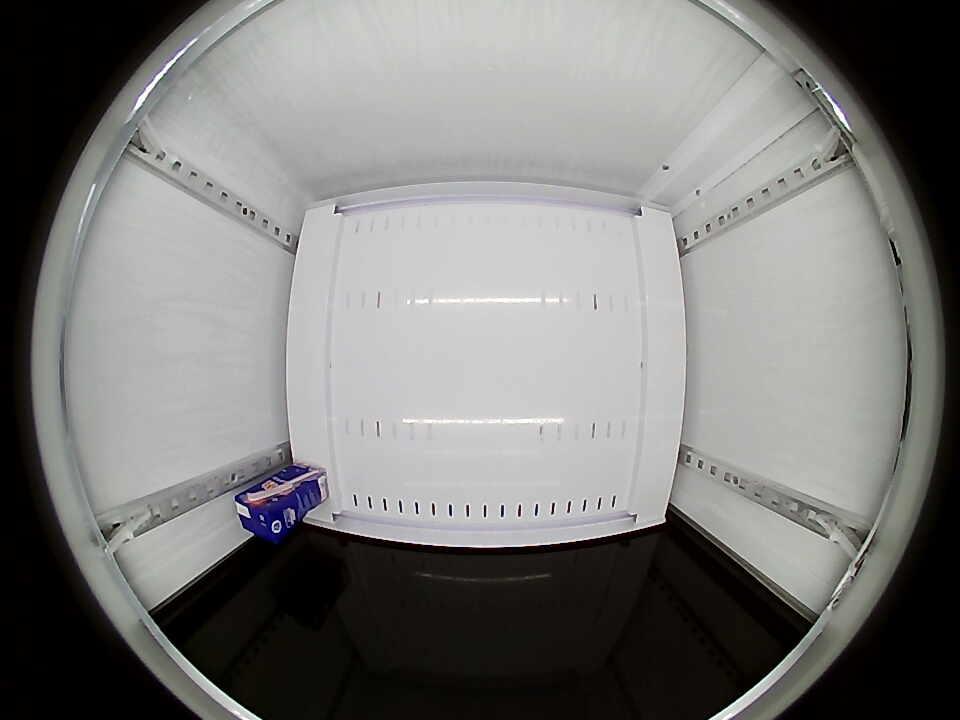bingqilinniunai: (234, 485, 297, 543)
